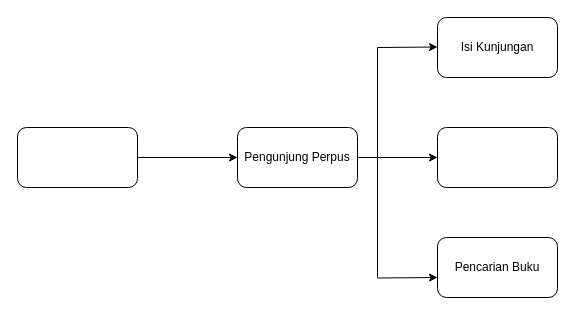
The diagram is 575 pixels wide and 315 high, and some of its shapes have lost their labels. Here are the shapes that lost their labels. From the top down, the centre of each, then its label:
At (77,157): "User".
At (497,157): "Lihat Daftar Pengunjung".
